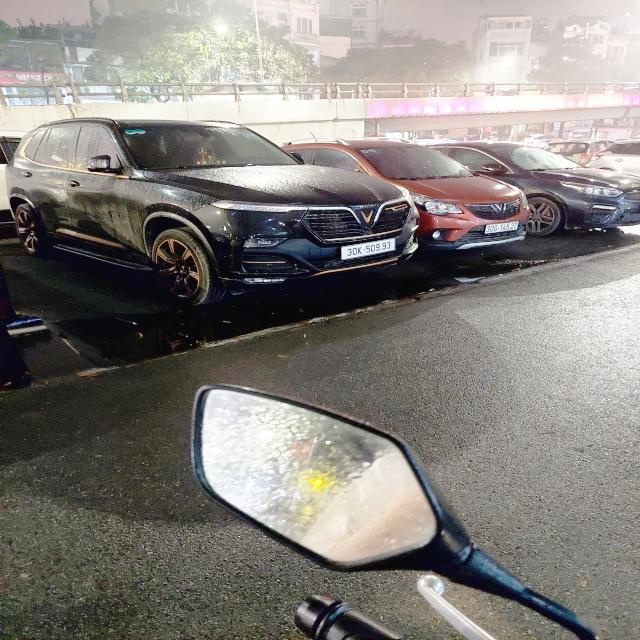license_plate: (341, 239, 397, 262)
